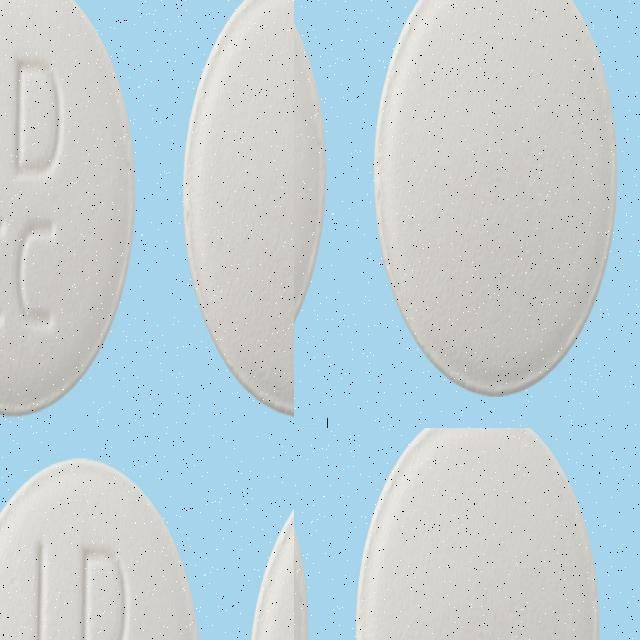Clathrocin: (351, 0, 640, 186), (294, 145, 374, 395)
Clotin: (0, 162, 182, 412), (163, 0, 294, 207)
Cycin - 500mg: (354, 428, 599, 640)
